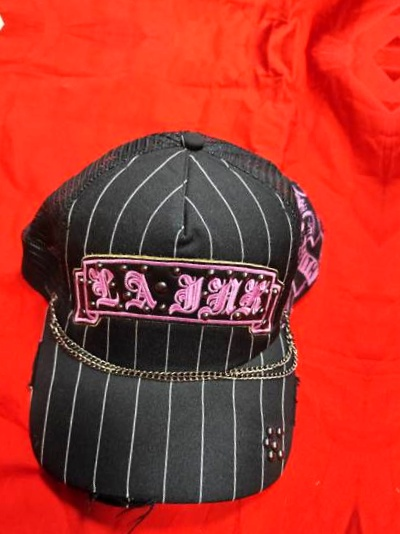Hat: (0, 121, 359, 516), (385, 156, 400, 534)
